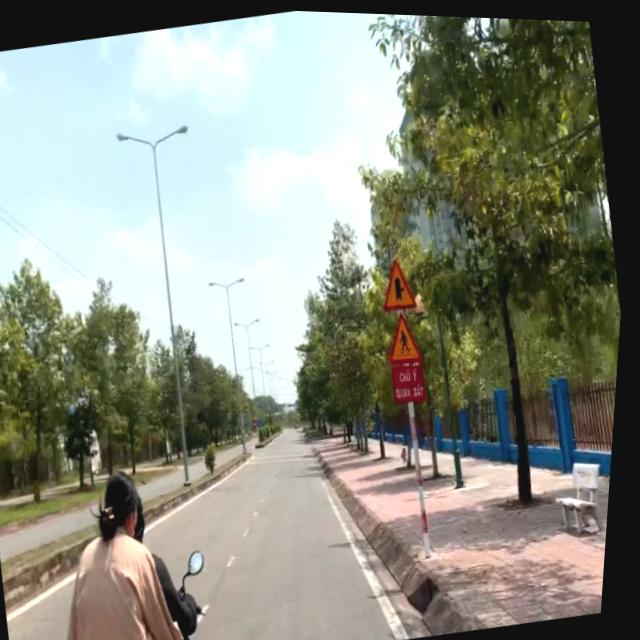Giao nhau voi duong khong uu tien ben phai: (379, 252, 423, 309)
Nguoi di bo cat ngang: (385, 305, 430, 365)
